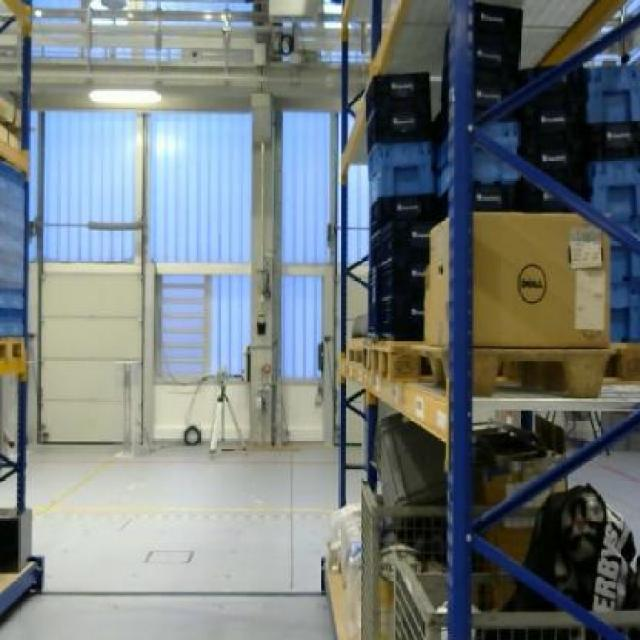box: (424, 210, 610, 344)
